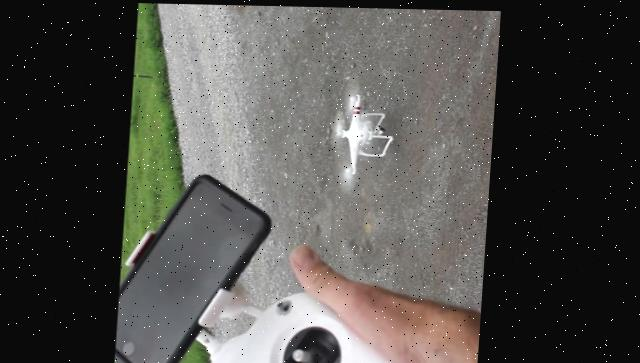drone: (331, 88, 399, 176)
